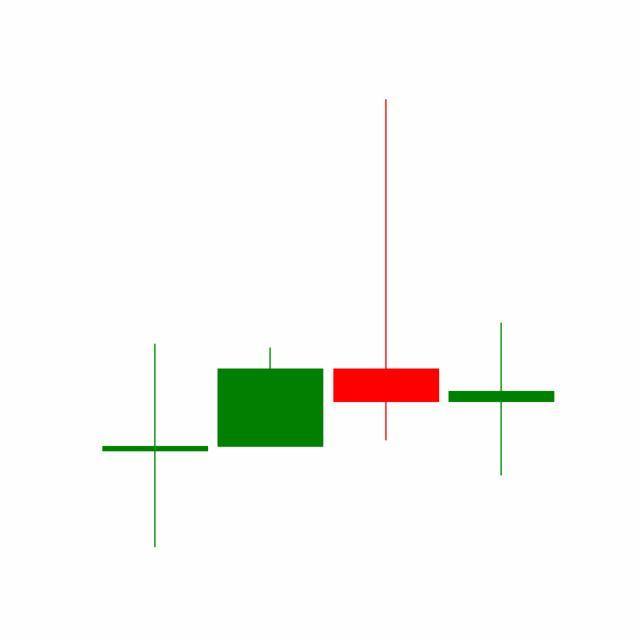Spinning Top: (444, 321, 560, 479)
